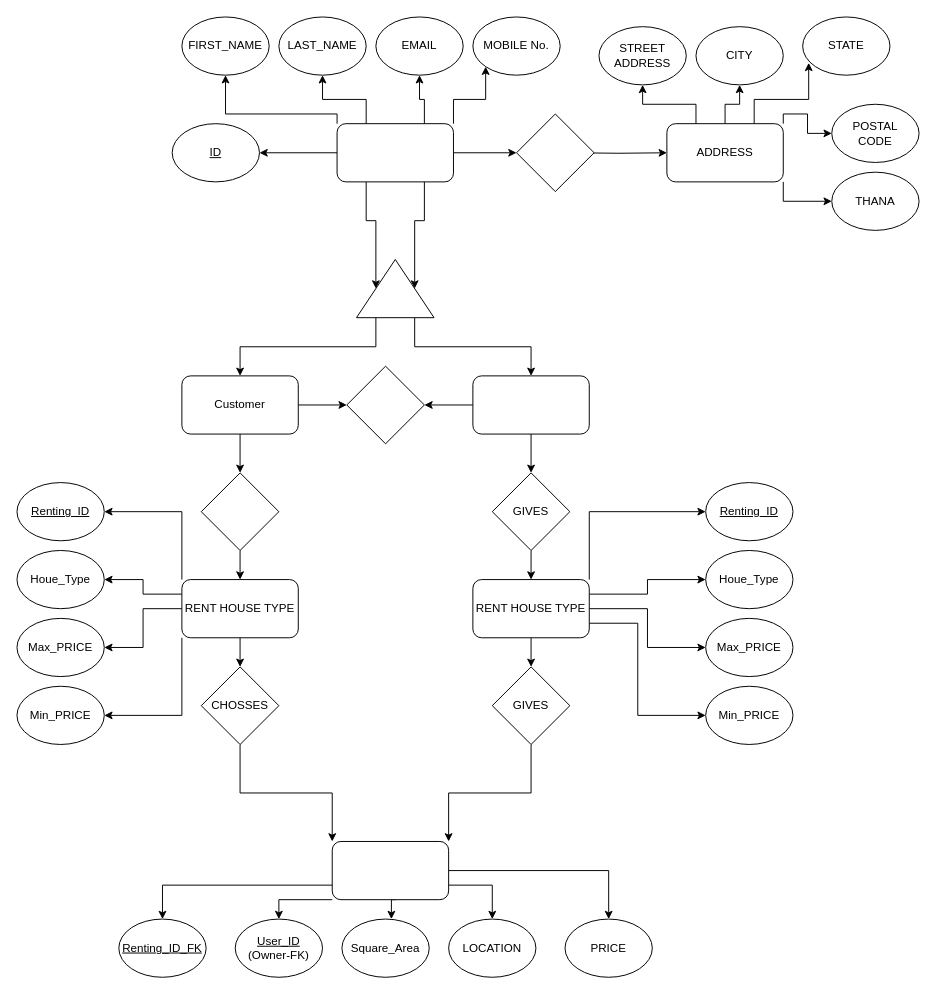
Some shapes in this 936 by 994 pixel diagram are drawn without their labels. Each missing label, with the centre of its shape:
"HAS" belongs at pixel 555 152.
"ISA" belongs at pixel 395 288.
"Owner" belongs at pixel 530 404.
"RENT HOUSE DETAILS" belongs at pixel 390 870.
"SEARCHES /FIND A RENT" belongs at pixel 239 511.
"Switches To" belongs at pixel 385 404.
"USER" belongs at pixel 394 152.
